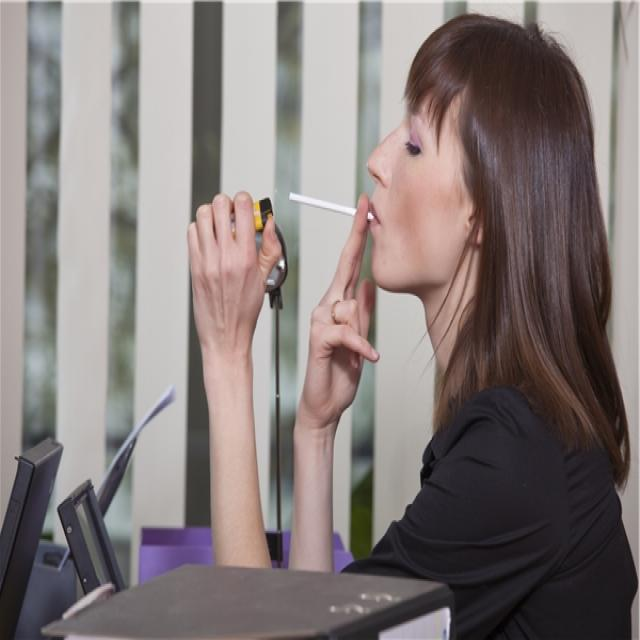smoking: (288, 192, 375, 219)
